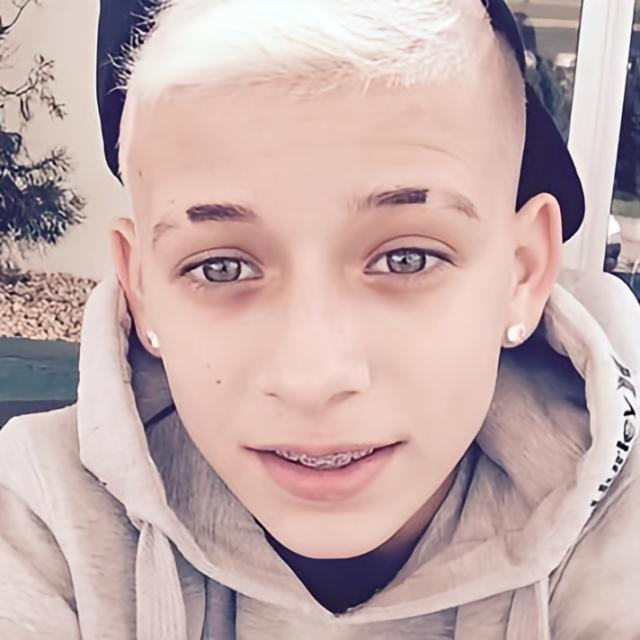neutral: (128, 45, 528, 563)
